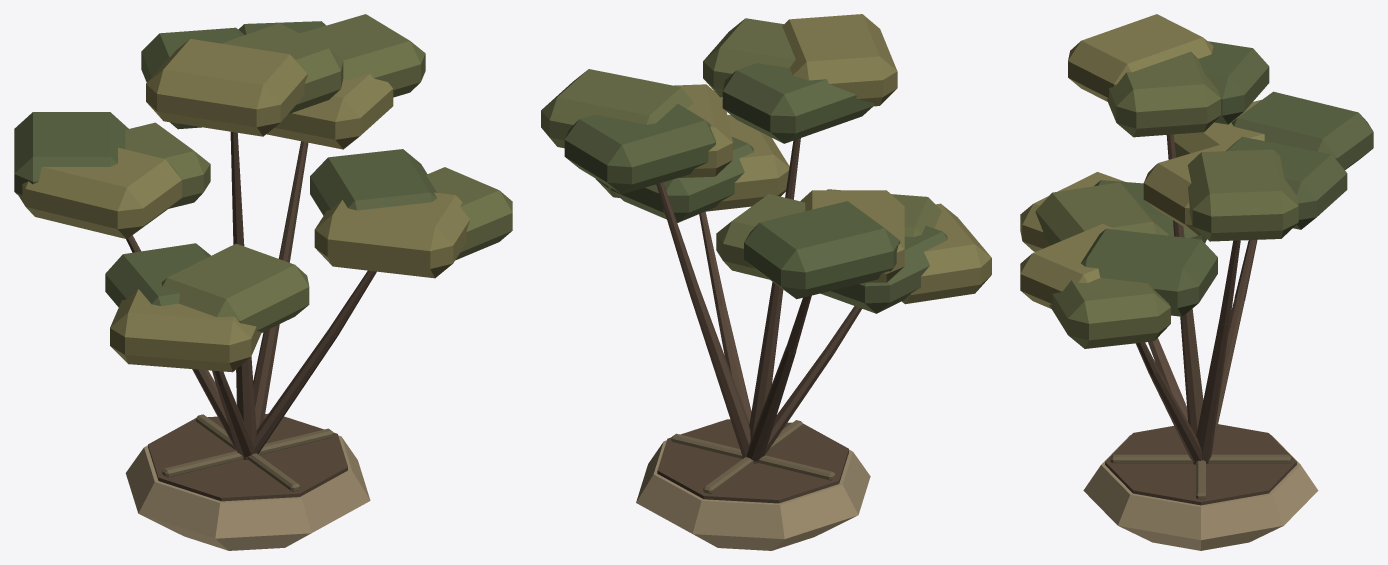
The model's file is elderberry_packed_autumn_picked.glb.
3 renders of one model, left to right at view 1: azimuth 30°, elevation 25°; view 2: azimuth 150°, elevation 25°; view 3: azimuth 270°, elevation 25°, orthographic. The views are drawn at different scales.
Parts seen in each view (by area): view 1: elderberry_packed_autumn_picked; view 2: elderberry_packed_autumn_picked; view 3: elderberry_packed_autumn_picked.
Part boxes in pixels (bbox=[...]): elderberry_packed_autumn_picked: bbox=[14, 14, 512, 550]; elderberry_packed_autumn_picked: bbox=[541, 14, 991, 550]; elderberry_packed_autumn_picked: bbox=[1020, 14, 1373, 550].
Bounding box in the file's own units: 2.16 × 2.59 × 1.8.
